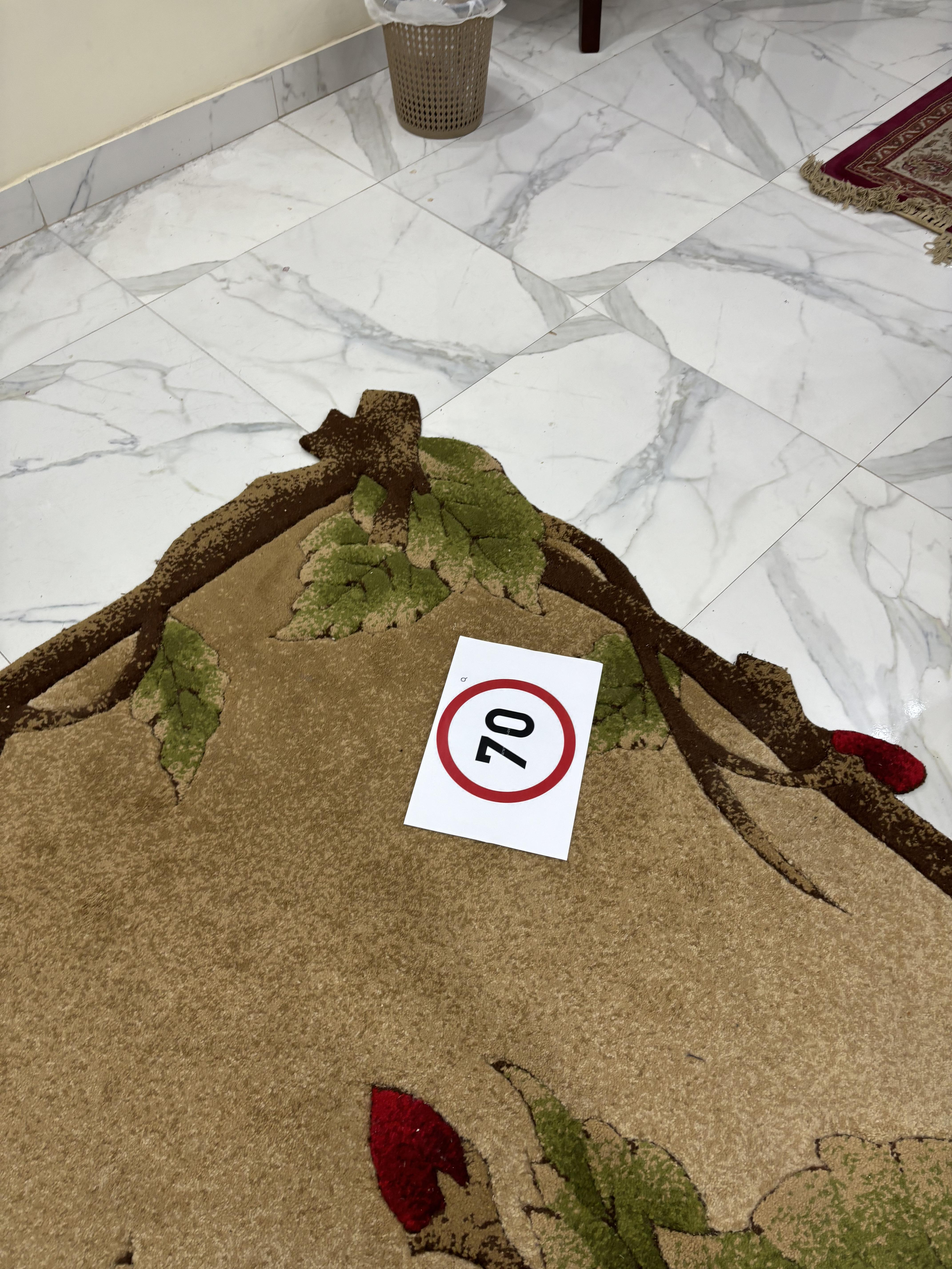70-Speed: (434, 678, 580, 806)
